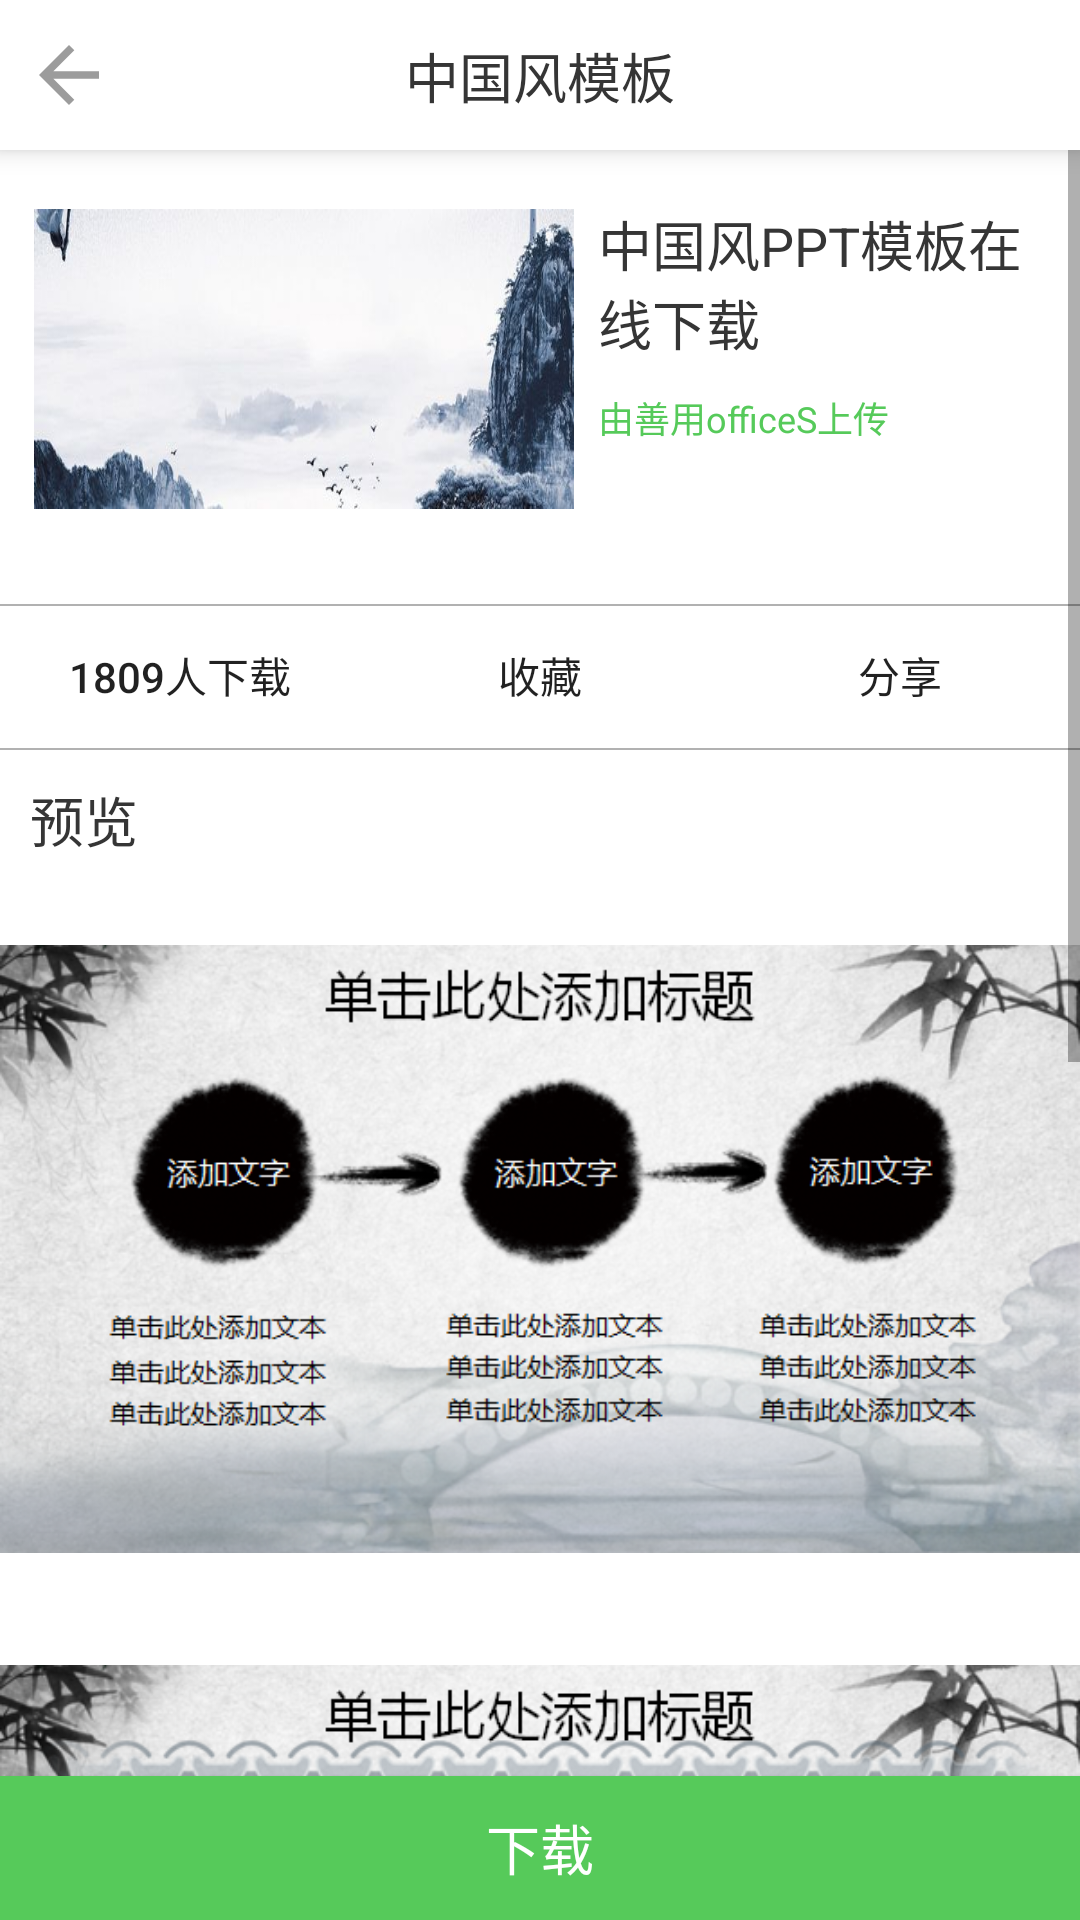

Named icons in this screenshot (1080w x 1920h) and their centers, [x,y]:
arrow back: [69,75]
